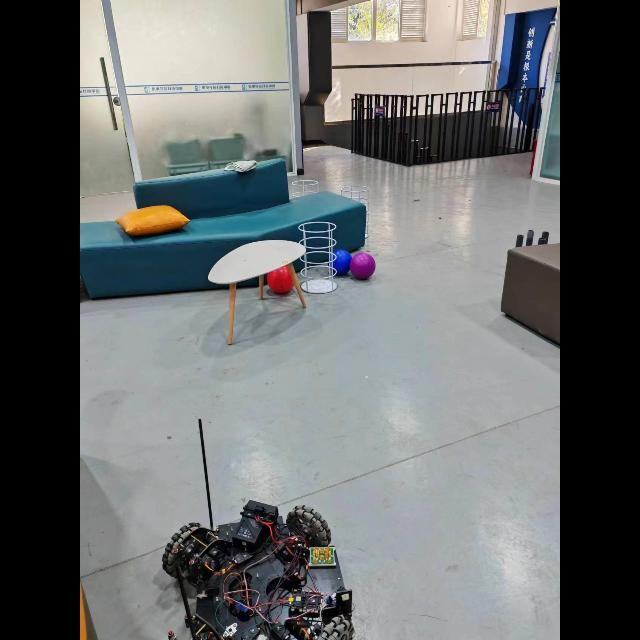B: (328, 250, 352, 274)
P: (350, 252, 376, 279)
R: (268, 266, 294, 294)
S: (299, 221, 338, 294)
